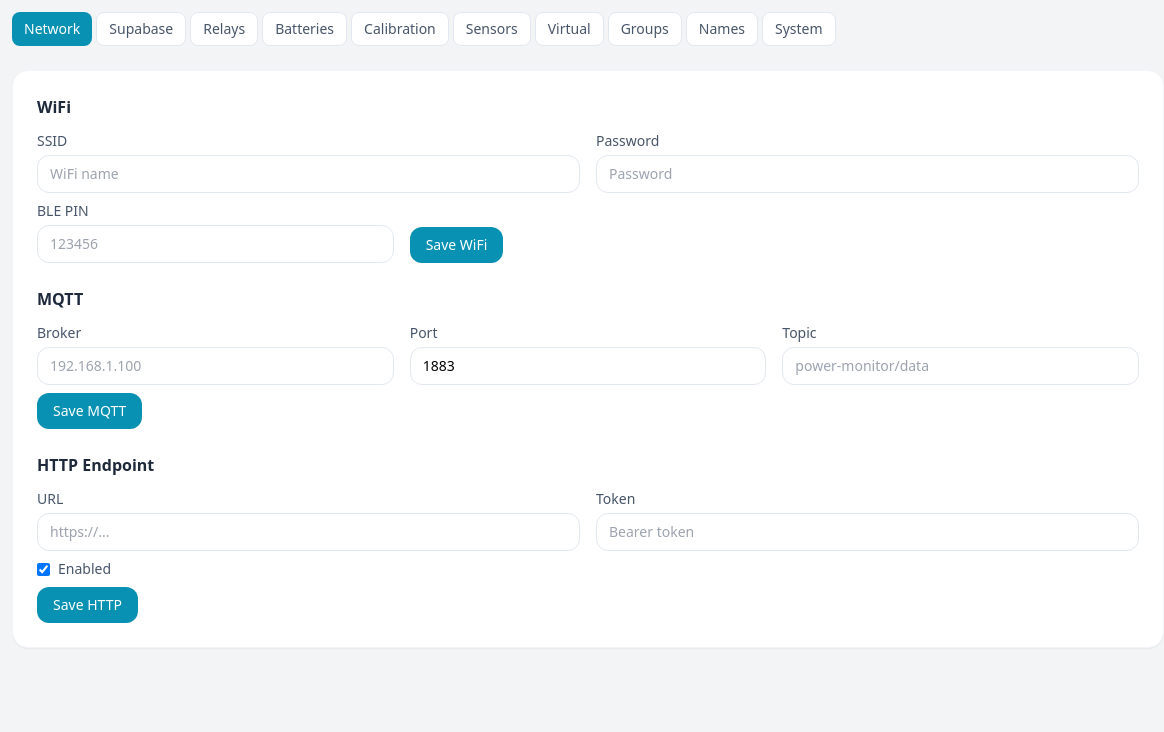
it: SettingsPage sendCommand migration › propagates errors from setWifi to the message banner
The image size is (1164, 732).
expect the button "Save WiFi" is shown: met, box [410, 227, 503, 263]
In the field with placeholder "WiFi name": (308, 174) [37, 155, 580, 193], type "X"
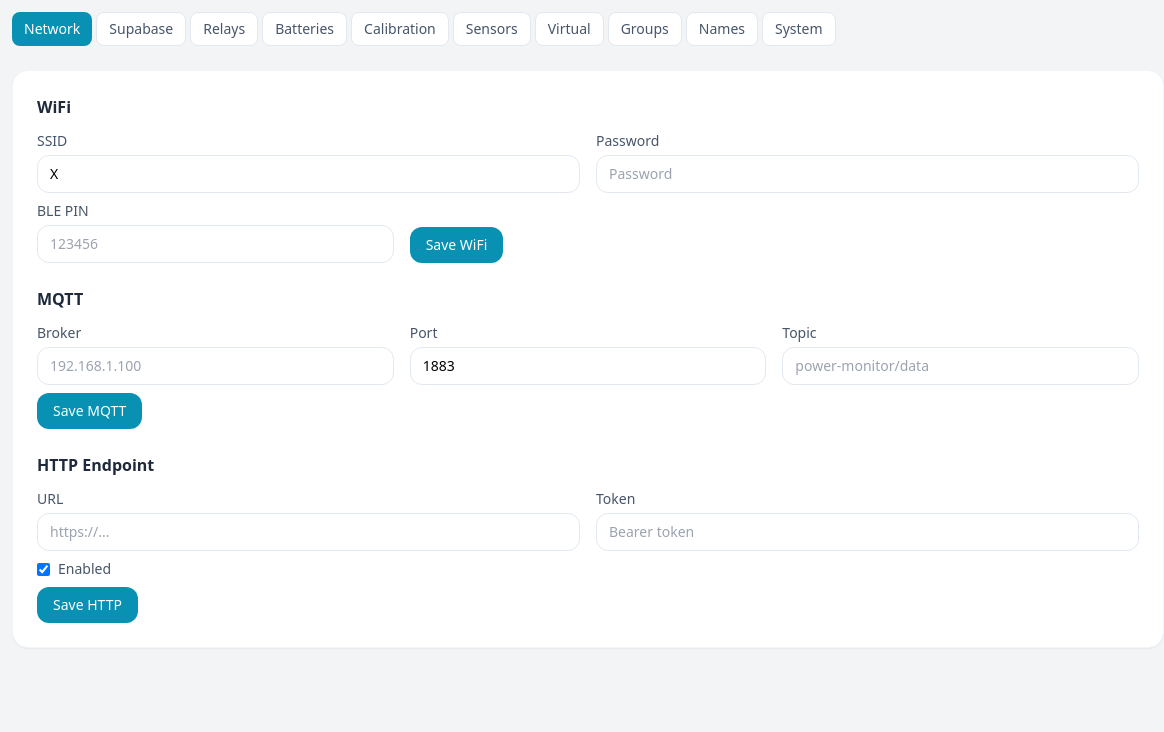
In the password field with placeholder "Password": (868, 174) [596, 155, 1139, 193], type "Y"
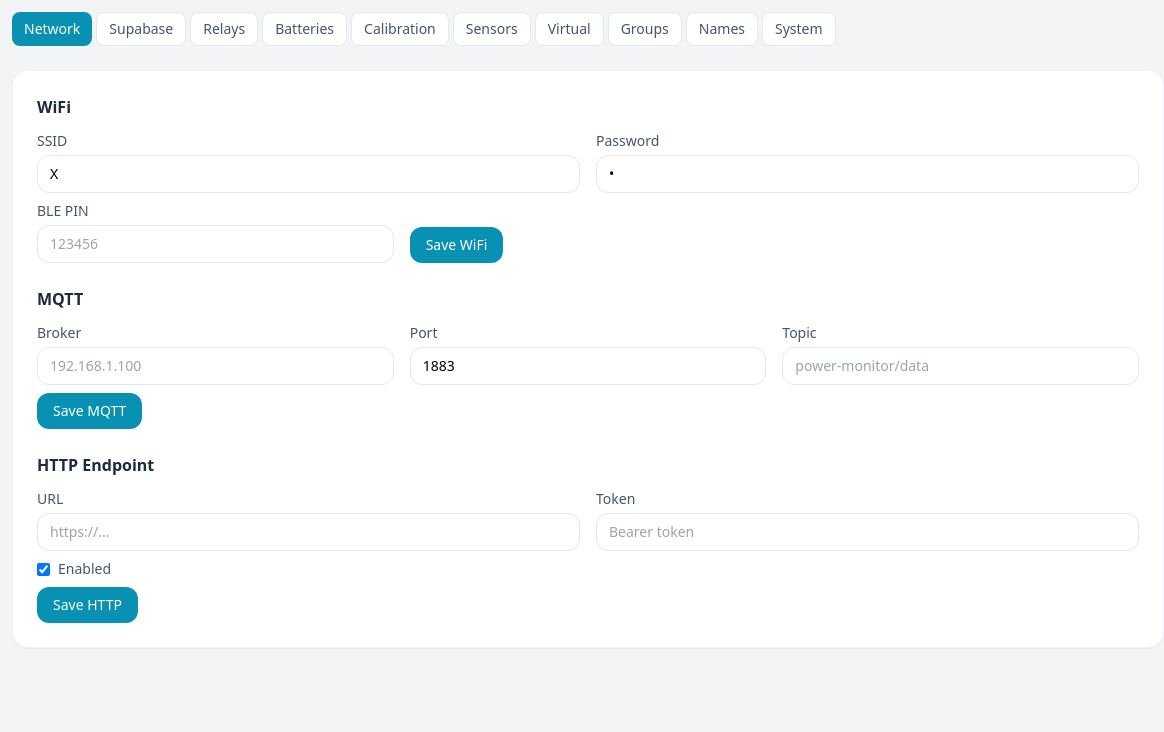
Click the button "Save WiFi": click(457, 245) [410, 227, 503, 263]
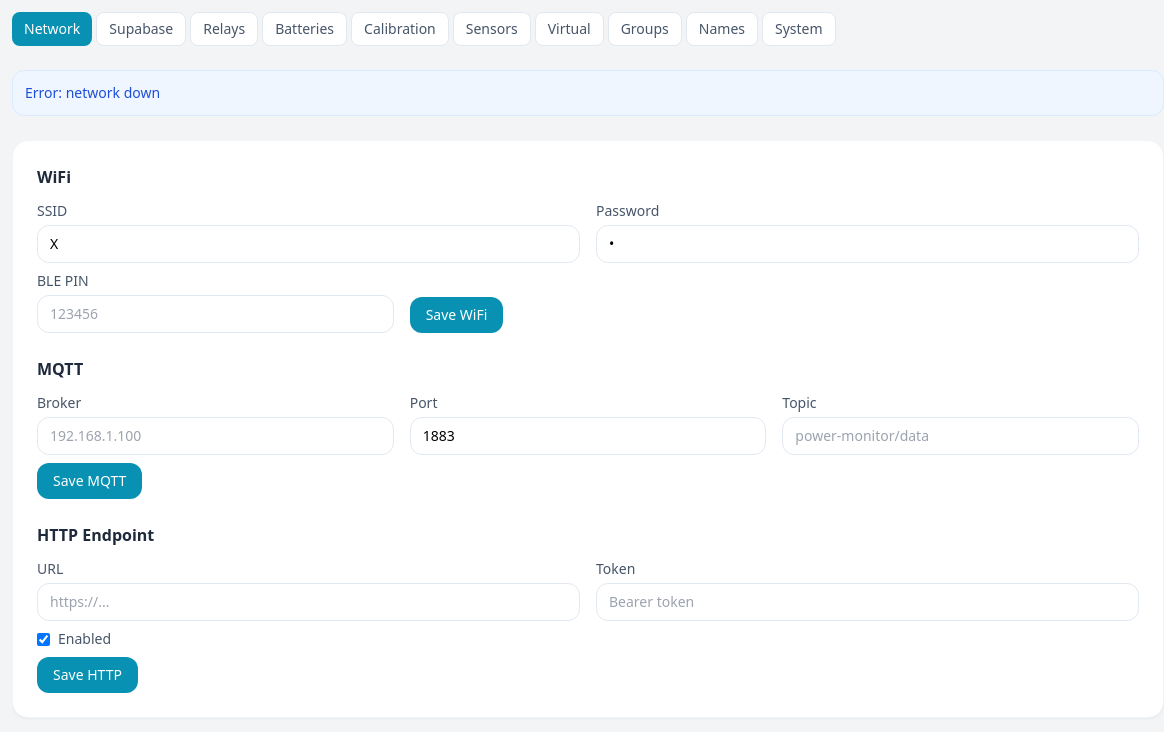
expect the text "Error: network down" is shown: met, box [12, 70, 1163, 116]
